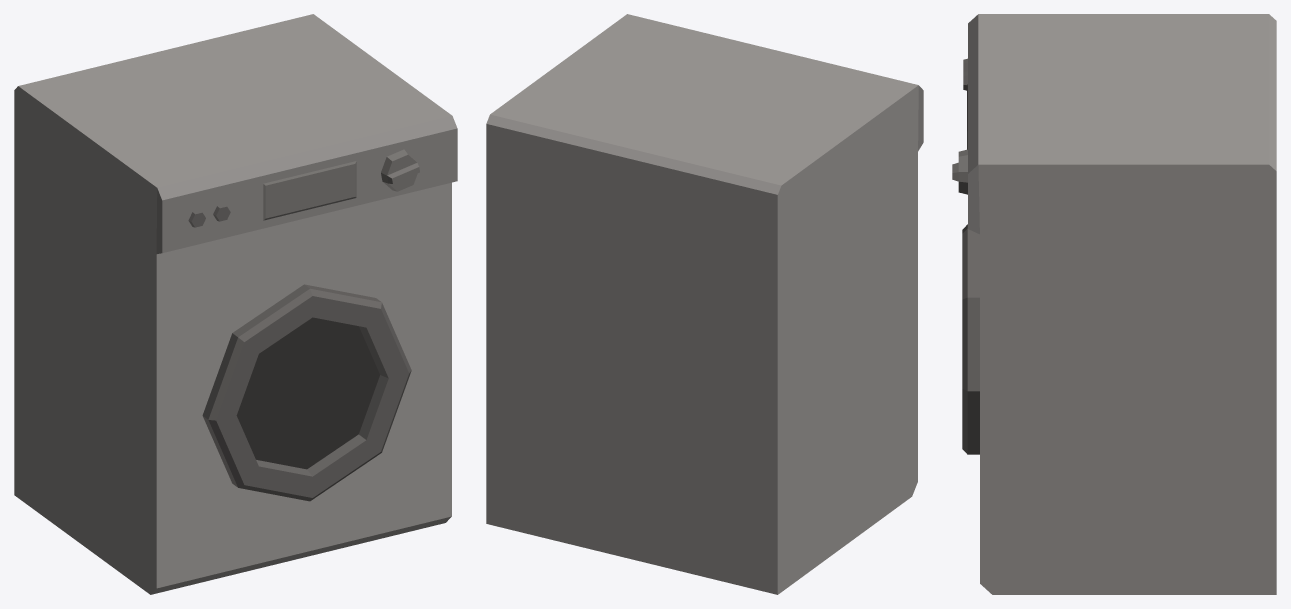
File: SM_Props_Interior_House_Generic_WashingMachine.fbx
3 renders of one model, left to right at view 1: azimuth 30°, elevation 25°; view 2: azimuth 150°, elevation 25°; view 3: azimuth 270°, elevation 25°, orthographic. The views are drawn at different scales.
Parts seen in each view (by area): view 1: SM_Props_Interior_House_Generic_WashingMachine; view 2: SM_Props_Interior_House_Generic_WashingMachine; view 3: SM_Props_Interior_House_Generic_WashingMachine.
Part boxes in pixels (bbox=[...]): SM_Props_Interior_House_Generic_WashingMachine: bbox=[14, 14, 457, 594]; SM_Props_Interior_House_Generic_WashingMachine: bbox=[486, 14, 923, 594]; SM_Props_Interior_House_Generic_WashingMachine: bbox=[952, 14, 1276, 594].
Bounding box in the file's own units: 60 × 80 × 54.69.
